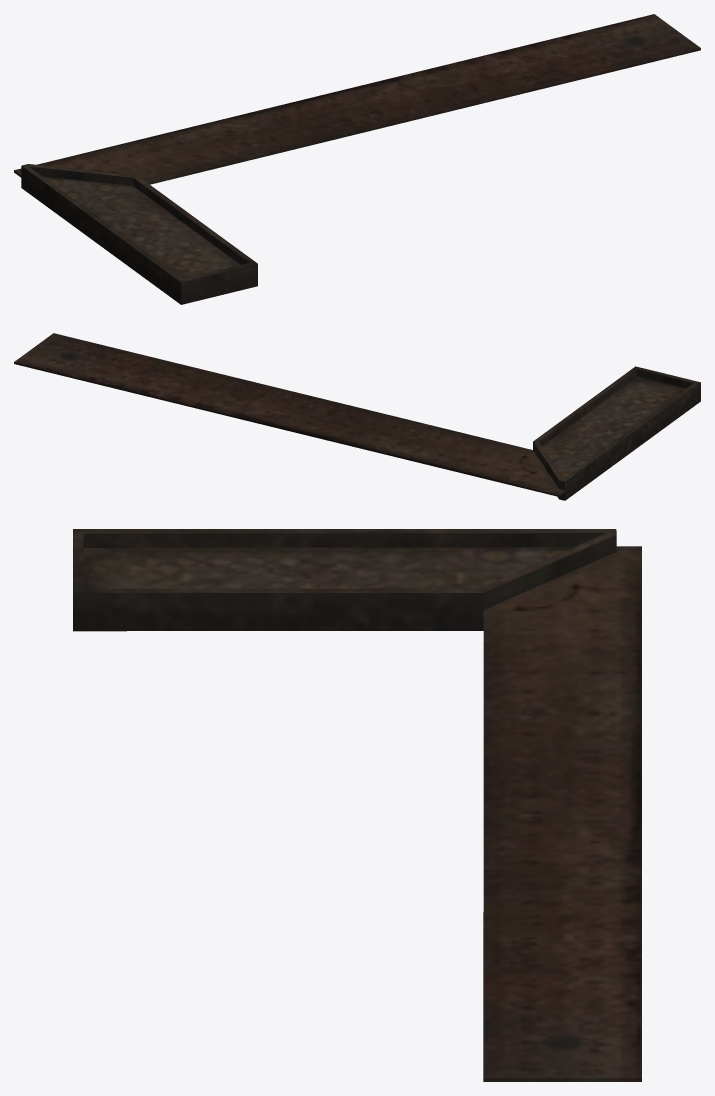
Rendered from misc_tool_mx_1.obj.
3 views of the same model, one above another, from view 1: azimuth 30°, elevation 25°; view 2: azimuth 150°, elevation 25°; view 3: azimuth 270°, elevation 25° (orthographic). The views are drawn at different scales.
Visible parts, largest first — view 1: misc_tool_mx_1; view 2: misc_tool_mx_1; view 3: misc_tool_mx_1.
Part boxes in pixels (box(x1,y1,x2,y2)): misc_tool_mx_1: box(14, 14, 700, 304); misc_tool_mx_1: box(14, 333, 700, 500); misc_tool_mx_1: box(73, 529, 641, 1081).
Bounding box in the file's own units: 0.5972 × 0.02 × 0.27.
